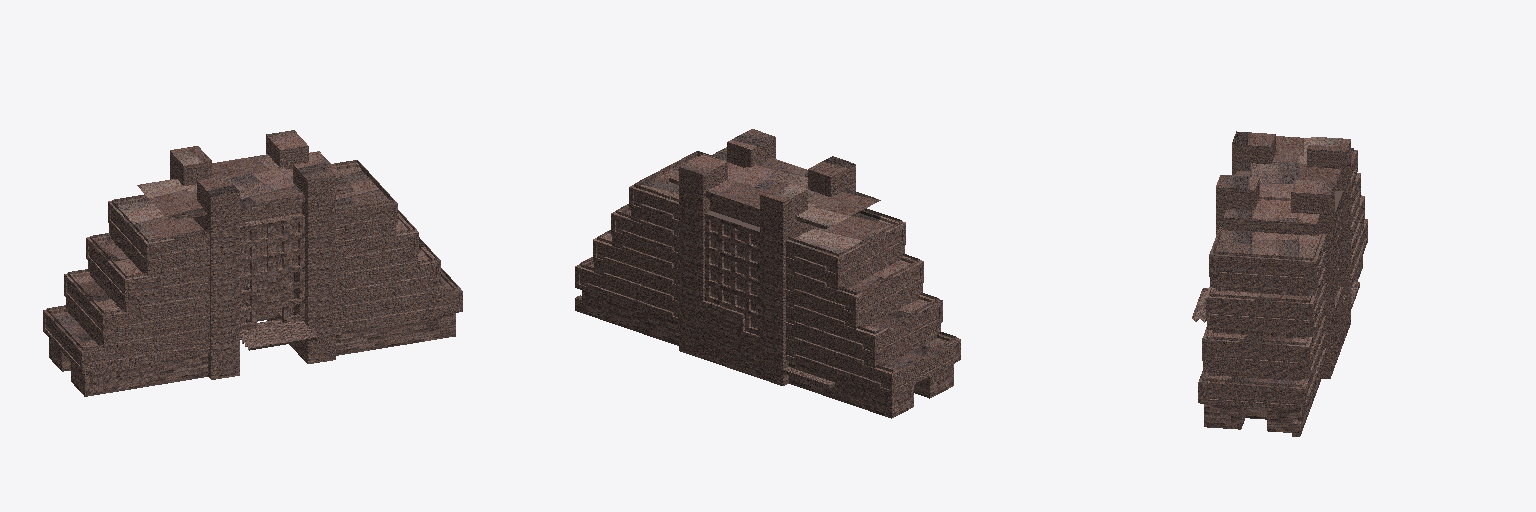
3 views of the same model, side by side, from view 1: azimuth 30°, elevation 25°; view 2: azimuth 150°, elevation 25°; view 3: azimuth 270°, elevation 25° (orthographic).
Visible parts, largest first — view 1: 3d_model; view 2: 3d_model; view 3: 3d_model.
Boxes of the visible parts, <box> form: 3d_model: <box>43,130,462,396</box>; 3d_model: <box>575,129,960,418</box>; 3d_model: <box>1192,131,1367,436</box>.
Size of the model in its own units: 2892 by 1389 by 1209.
1 materials, 1 textured.